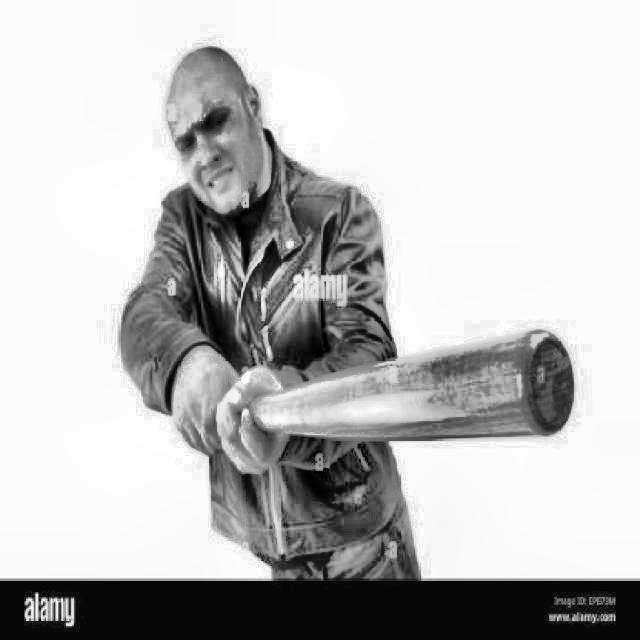tongkat pemukul: (175, 320, 587, 464)
